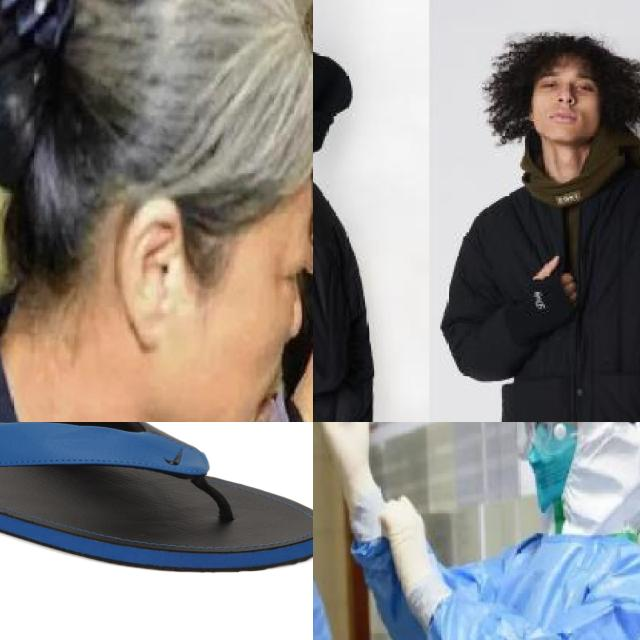No_Ear-Protection: (117, 194, 179, 348)
No_Glasses: (251, 236, 313, 301), (534, 71, 598, 95)
Sandals: (0, 422, 313, 574)
face_mask: (363, 422, 640, 640), (517, 422, 588, 498)
face_nomask: (128, 85, 313, 422), (524, 66, 606, 136)
glasses: (514, 422, 576, 449)
hand_glove: (378, 496, 437, 590), (520, 254, 579, 334), (315, 422, 378, 475)
head_nohelmet: (29, 0, 313, 156), (526, 30, 618, 72)
person: (452, 22, 640, 422), (313, 27, 389, 422)
